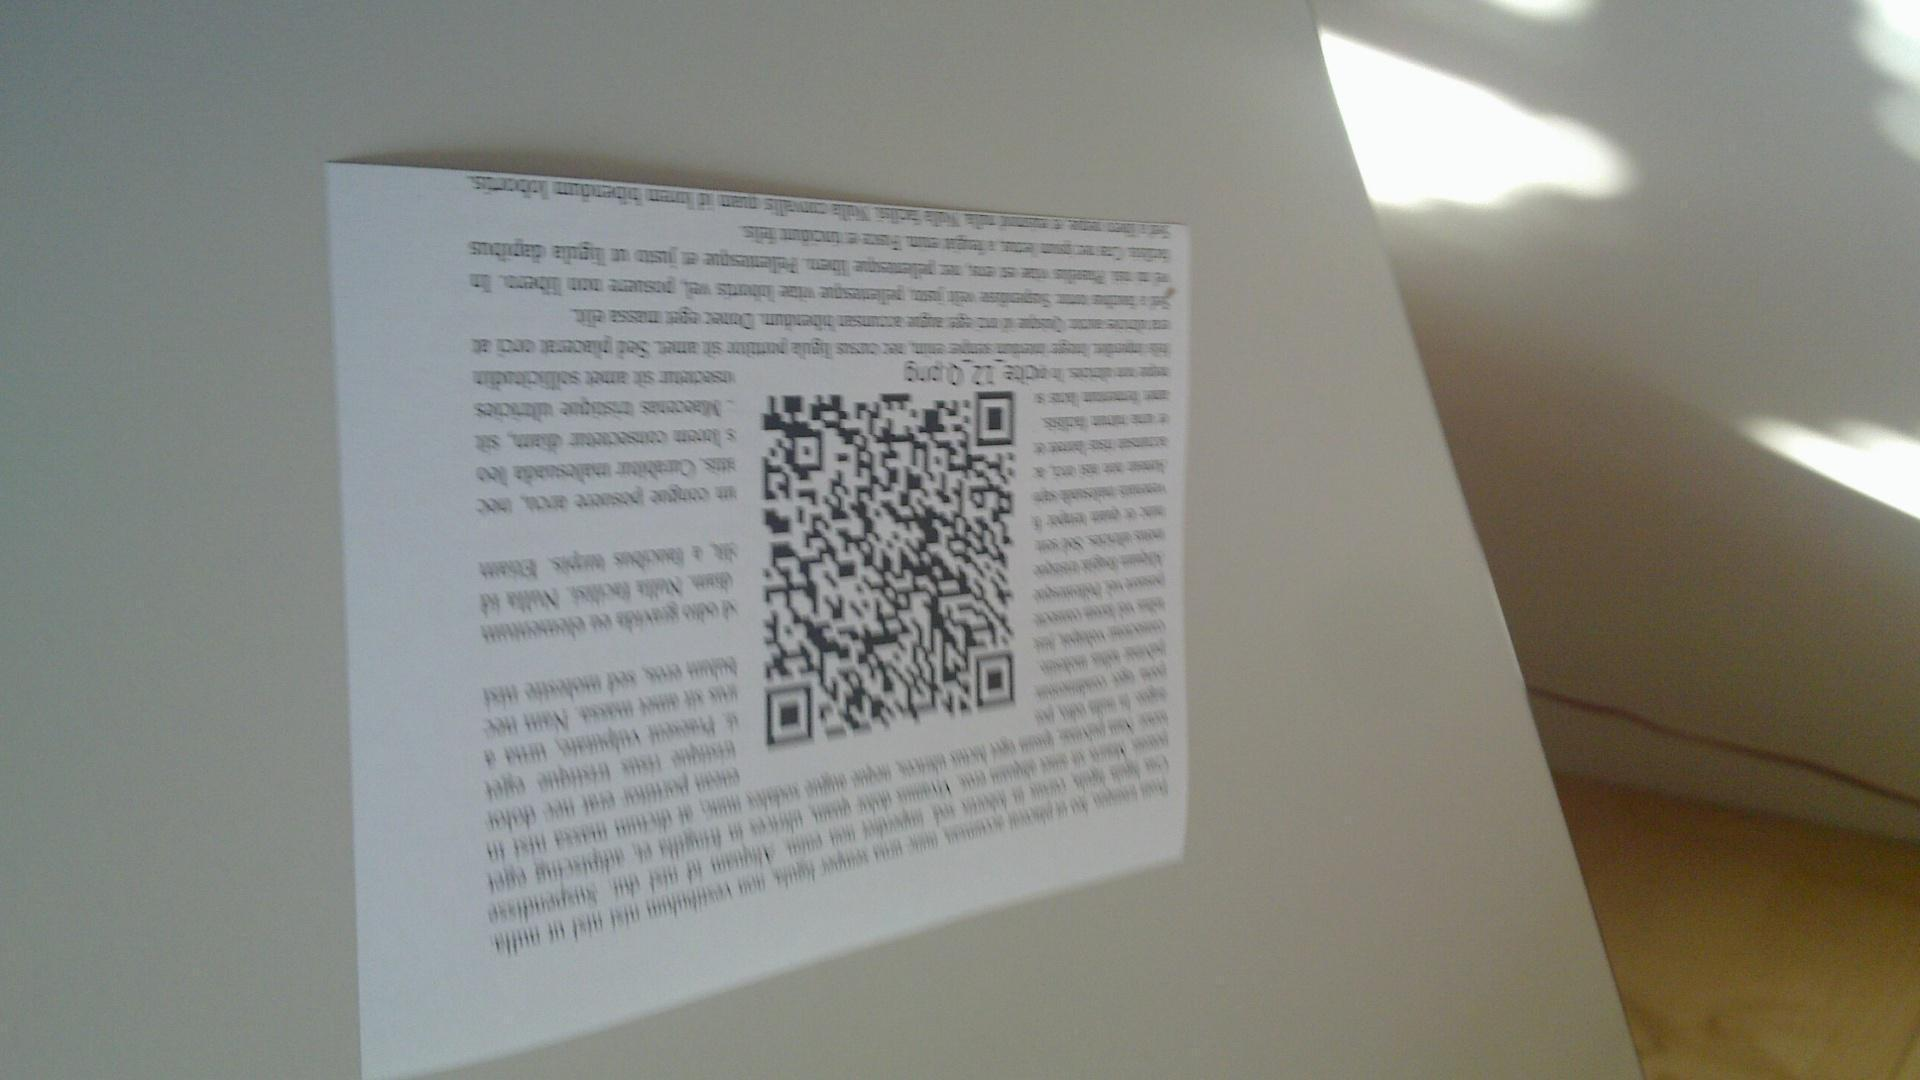qr_code: (761, 392, 1015, 748)
